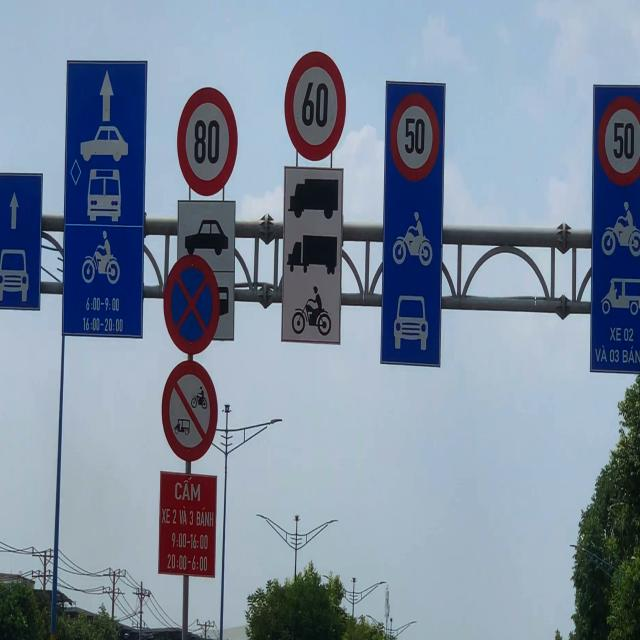Cam con lai: (162, 360, 218, 461)
Cam dung va do: (163, 255, 221, 354)
Toc do toi da: (284, 49, 347, 162), (176, 86, 238, 196), (390, 92, 439, 182), (597, 94, 640, 187)
